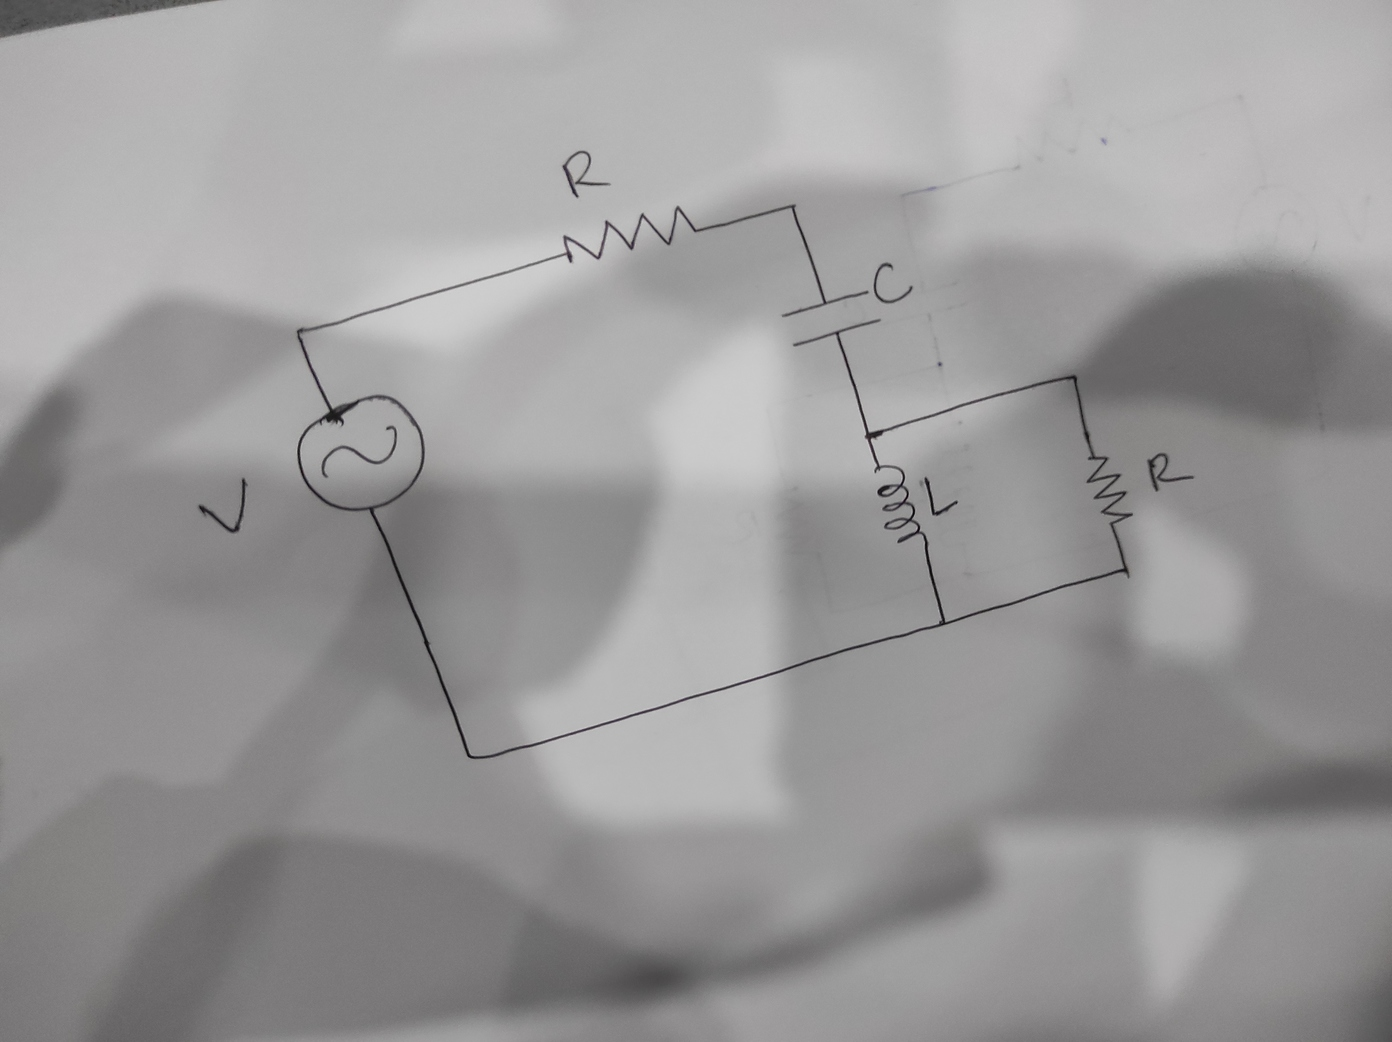capacitor.unpolarized: (778, 286, 885, 349)
inductor: (872, 463, 930, 547)
junction: (860, 425, 885, 443), (1113, 561, 1138, 580), (931, 614, 956, 632), (462, 745, 485, 764), (291, 322, 311, 343), (782, 200, 803, 217), (1064, 371, 1082, 385)
resistor: (554, 202, 708, 266), (1083, 453, 1136, 529)
text: (195, 474, 251, 537), (561, 148, 615, 200), (1145, 450, 1198, 494), (871, 259, 915, 306), (923, 474, 962, 517)
voltage.dc_ac: (293, 391, 429, 516)
